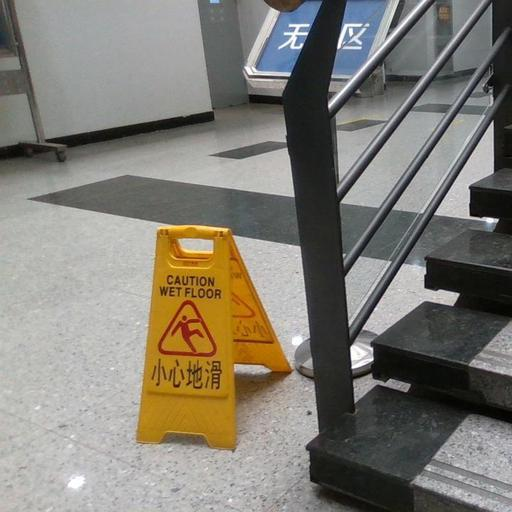stairs: (308, 230, 511, 511), (425, 230, 511, 303)
